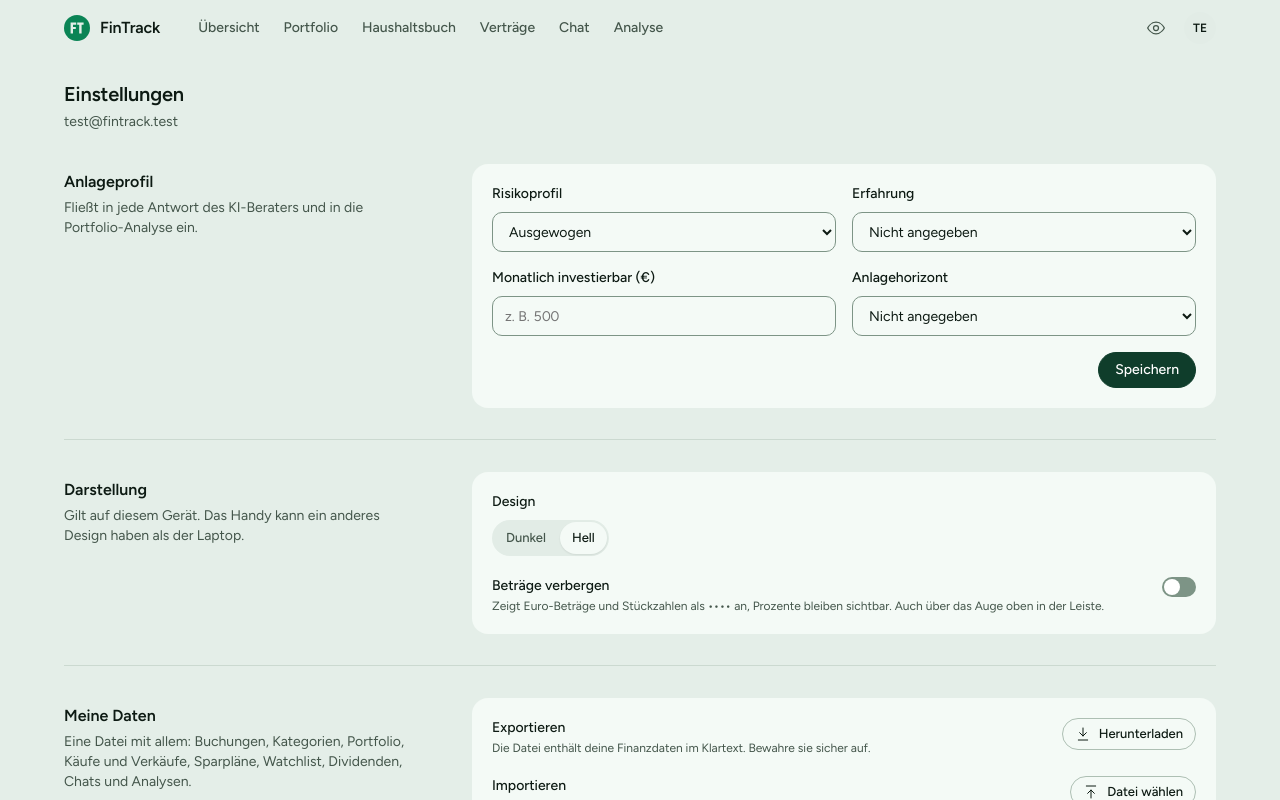
Einstellungen › zeigt das gespeicherte Anlageprofil und speichert Änderungen
expect the dropdown labelled "Risikoprofil" shows "Ausgewogen": met, box [492,212,836,252]
expect the dropdown labelled "Erfahrung" shows "Nicht angegeben": met, box [852,212,1196,252]
Select "Langfristig" in the dropdown labelled "Anlagehorizont" at (1024, 316), box [852,296,1196,336]
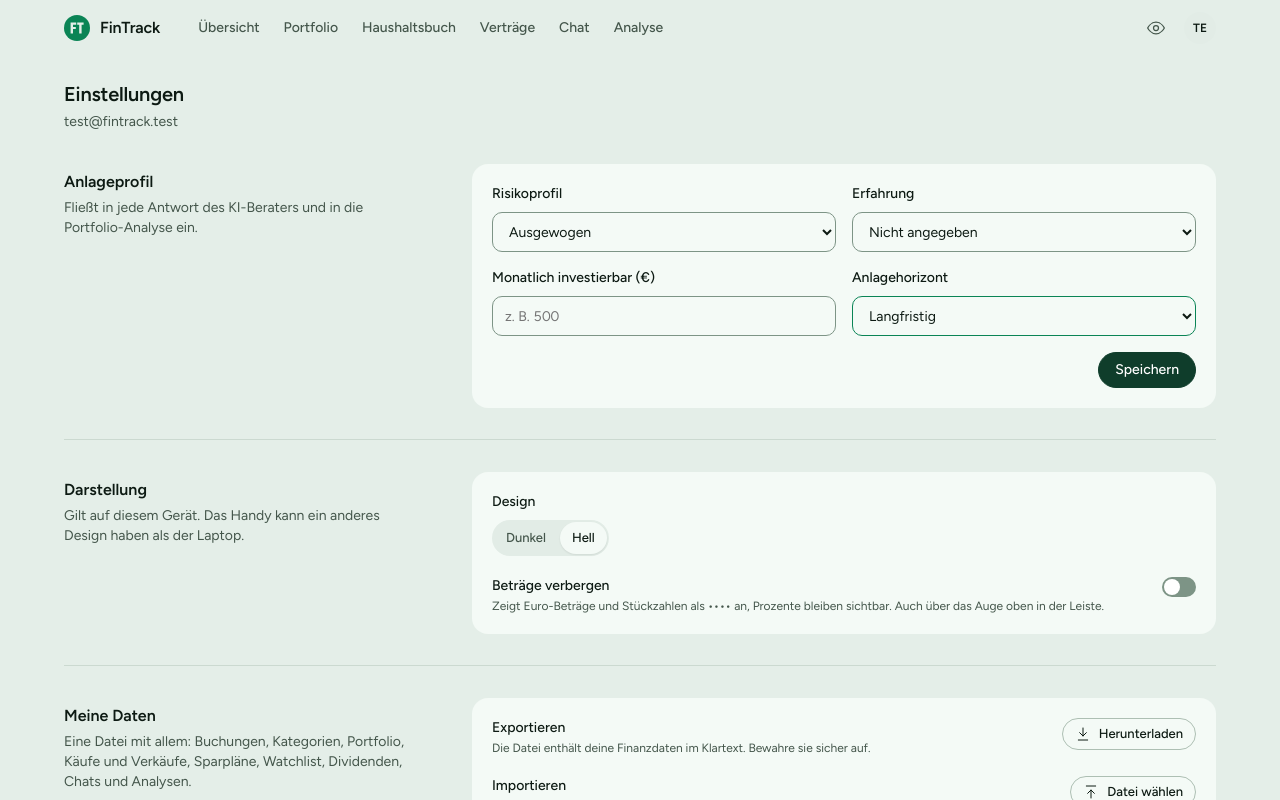
Type "250,50" into the field labelled "Monatlich investierbar (€)".
click(664, 316); type("250,50")  # box [492,296,836,336]
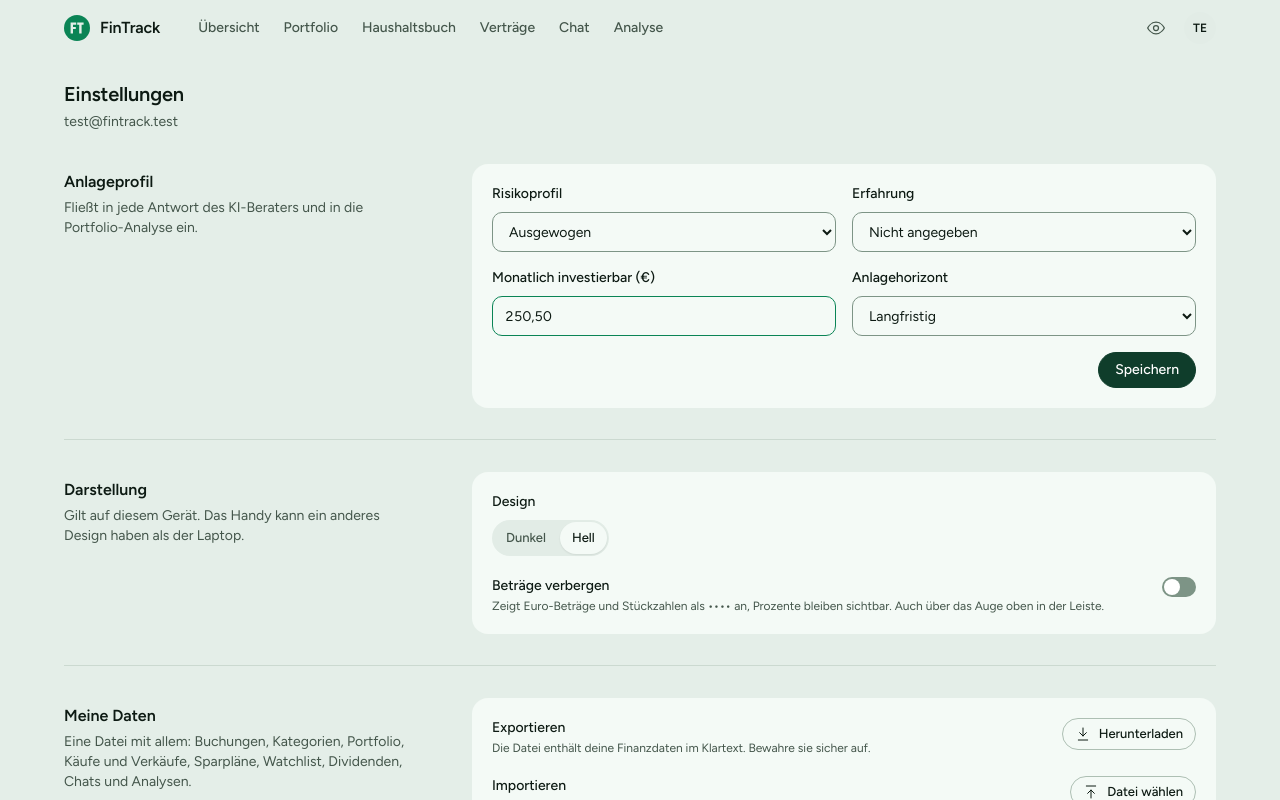
Click the button "Speichern".
click(1147, 370)  # box [1098,352,1196,388]
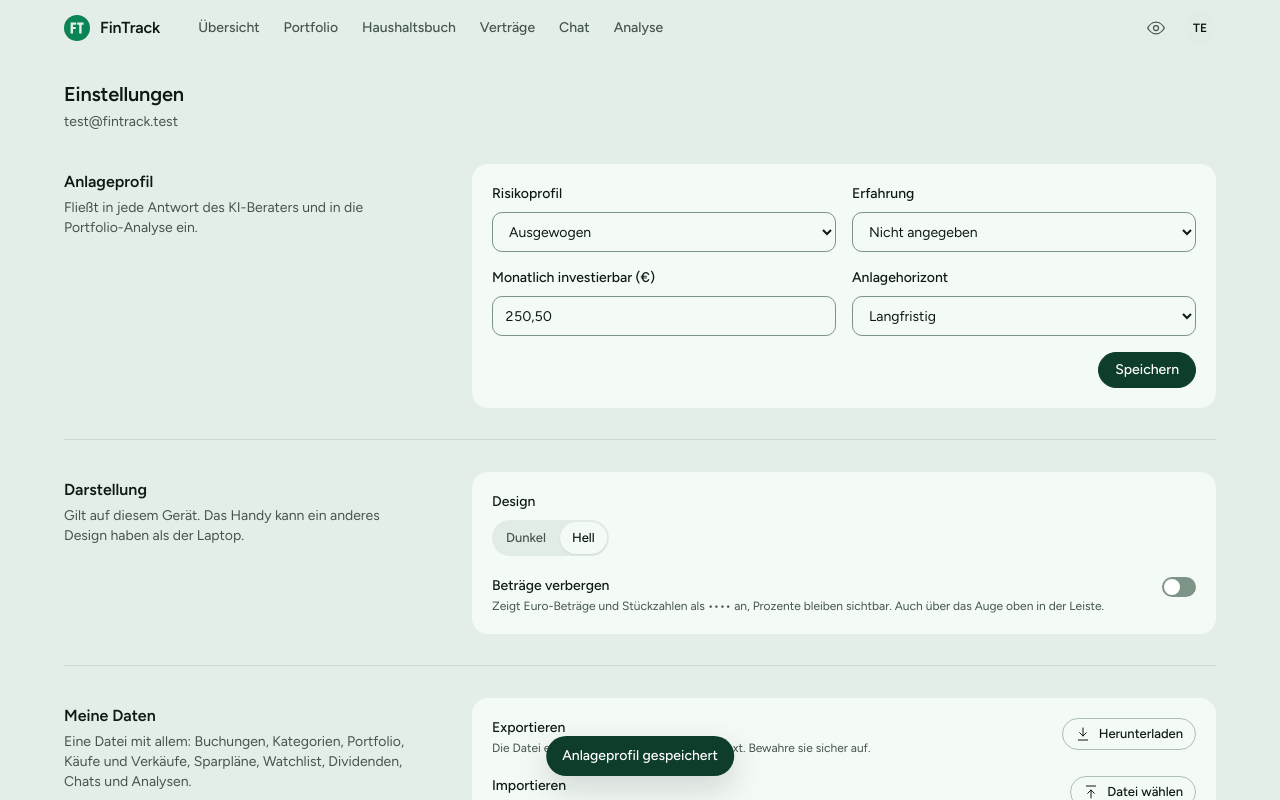
expect the text "Anlageprofil gespeichert" is shown: met, box [546,736,734,776]
